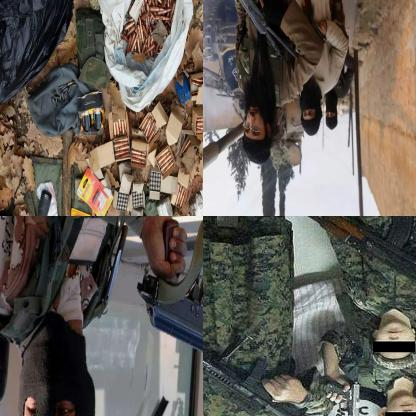pistol: (318, 376, 366, 415)
rifle: (134, 216, 202, 415), (279, 216, 415, 289), (203, 335, 305, 415), (203, 0, 300, 68)
